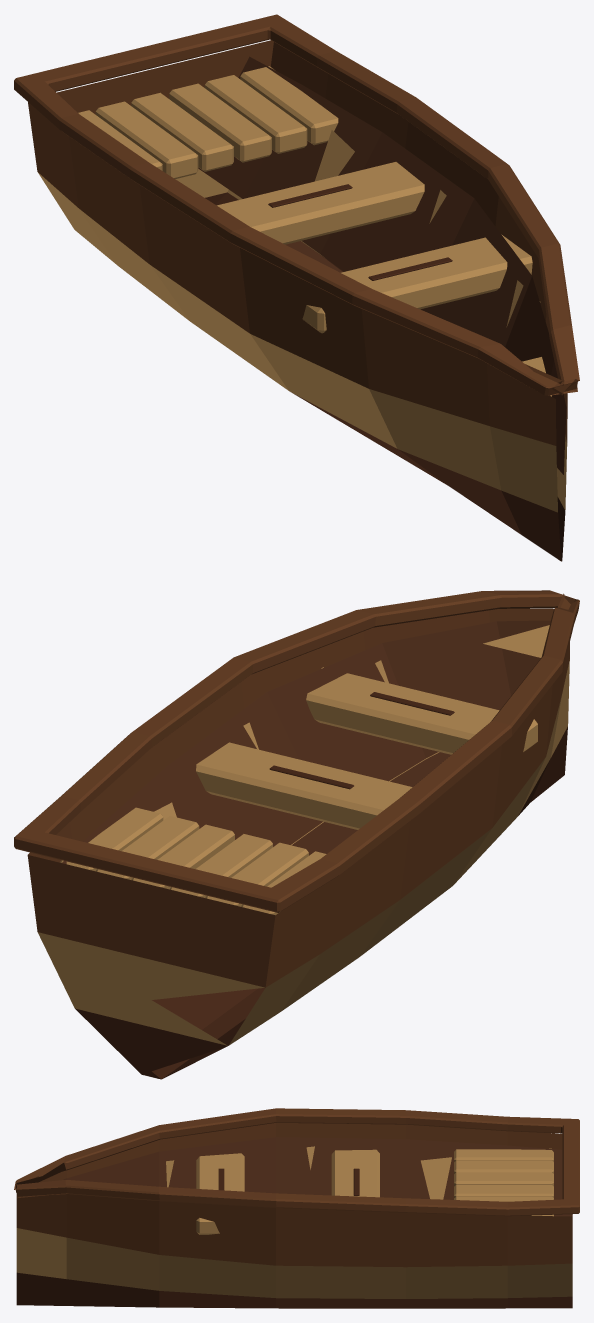
Rendered from rowboat-blender.glb.
The picture shows the model from 3 angles, top to bottom: view 1: azimuth 30°, elevation 25°; view 2: azimuth 150°, elevation 25°; view 3: azimuth 270°, elevation 25°; orthographic projection. The views are drawn at different scales.
Parts seen in each view (by area): view 1: GEO-hull_surface, GEO-gunwale_continuous, GEO-bench_1, GEO-bench_2, GEO-stern_deck_plank_3, GEO-stern_deck_plank_2, GEO-stern_deck_plank_4, GEO-stern_deck_plank_5, GEO-stern_deck_plank_1, GEO-stern_deck_plank_6; view 2: GEO-hull_surface, GEO-gunwale_continuous, GEO-bench_1, GEO-bench_2, GEO-stern_deck_plank_3, GEO-stern_deck_plank_5, GEO-stern_deck_plank_2, GEO-stern_deck_plank_4, GEO-stern_deck_plank_1; view 3: GEO-hull_surface, GEO-gunwale_continuous, GEO-bench_1, GEO-bench_2, GEO-stern_deck_plank_4, GEO-stern_deck_plank_3, GEO-stern_deck_plank_5, GEO-stern_deck_plank_6, GEO-stern_deck_plank_2.
Boxes of the visible parts, x1=… form: GEO-hull_surface: x1=28, y1=40, x2=567, y2=561; GEO-gunwale_continuous: x1=14, y1=14, x2=579, y2=395; GEO-bench_1: x1=217, y1=162, x2=424, y2=244; GEO-bench_2: x1=302, y1=234, x2=532, y2=333; GEO-stern_deck_plank_3: x1=169, y1=83, x2=271, y2=162; GEO-stern_deck_plank_2: x1=204, y1=75, x2=307, y2=153; GEO-stern_deck_plank_4: x1=131, y1=92, x2=233, y2=171; GEO-stern_deck_plank_5: x1=95, y1=101, x2=198, y2=178; GEO-stern_deck_plank_1: x1=240, y1=66, x2=338, y2=145; GEO-stern_deck_plank_6: x1=78, y1=110, x2=162, y2=170; GEO-hull_surface: x1=27, y1=608, x2=569, y2=1079; GEO-gunwale_continuous: x1=14, y1=590, x2=579, y2=912; GEO-bench_1: x1=196, y1=742, x2=412, y2=829; GEO-bench_2: x1=306, y1=667, x2=537, y2=754; GEO-stern_deck_plank_3: x1=131, y1=824, x2=234, y2=889; GEO-stern_deck_plank_5: x1=205, y1=842, x2=308, y2=906; GEO-stern_deck_plank_2: x1=96, y1=816, x2=199, y2=879; GEO-stern_deck_plank_4: x1=170, y1=834, x2=272, y2=897; GEO-stern_deck_plank_1: x1=60, y1=807, x2=163, y2=871; GEO-hull_surface: x1=16, y1=1123, x2=572, y2=1308; GEO-gunwale_continuous: x1=14, y1=1108, x2=579, y2=1216; GEO-bench_1: x1=331, y1=1149, x2=379, y2=1197; GEO-bench_2: x1=196, y1=1153, x2=244, y2=1234; GEO-stern_deck_plank_4: x1=454, y1=1172, x2=553, y2=1186; GEO-stern_deck_plank_3: x1=454, y1=1184, x2=553, y2=1197; GEO-stern_deck_plank_5: x1=454, y1=1160, x2=553, y2=1173; GEO-stern_deck_plank_6: x1=454, y1=1148, x2=553, y2=1161; GEO-stern_deck_plank_2: x1=454, y1=1196, x2=553, y2=1201.
Bounding box in the file's own units: 1.22 × 0.901 × 3.06.
